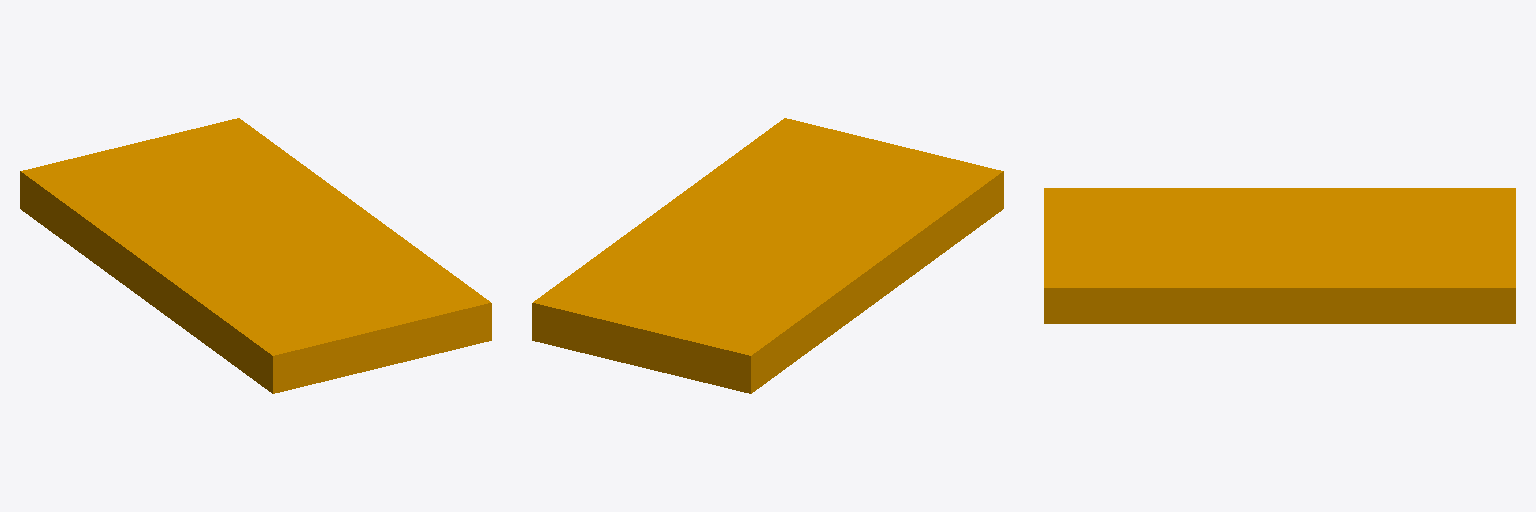
robot.urdf — tabletop:
<?xml version="1.0" ?>
<robot name="tabletop">
  <link name="baseLink">
    <visual>
      <geometry>
        <box size="0.6 1.2 0.1"/>
      </geometry>
      <origin rpy="0 0 0" xyz="0.0 0 -0.05"/>
      <material name="black"/>
    </visual>
    <collision>
      <geometry>
        <box size="0.6 1.2 0.1"/>
      </geometry>
      <origin rpy="0 0 0" xyz="0.0 0 -0.05"/>
      <contact_coefficients mu="3.0" />
    </collision>
    <inertial>
      <mass value="5.0"/>
      <inertia ixx="0.001" ixy="0.0" ixz="0.0" iyy="0.001" iyz="0.0" izz="0.001"/>
      <origin rpy="0 0 0" xyz="0 0 0"/>
    </inertial>
  </link>
</robot>

--- Render facts (derived) ---
3 views of the same robot in one strip: view 1: azimuth 30°, elevation 25°; view 2: azimuth 150°, elevation 25°; view 3: azimuth 270°, elevation 25° (orthographic).
Robot: tabletop — 1 links, 0 joints (none); root link baseLink; default pose: every joint at zero.
Links seen in each view (by area): view 1: baseLink; view 2: baseLink; view 3: baseLink.
Boxes of the visible links, left/top/right/bottom form: baseLink: left=20, top=118, right=491, bottom=393; baseLink: left=532, top=118, right=1003, bottom=393; baseLink: left=1044, top=188, right=1515, bottom=323.
Size in the robot's own frame: 0.6 by 1.2 by 0.1 metres.
Geometry: primitives only (box / cylinder / sphere), no mesh files.